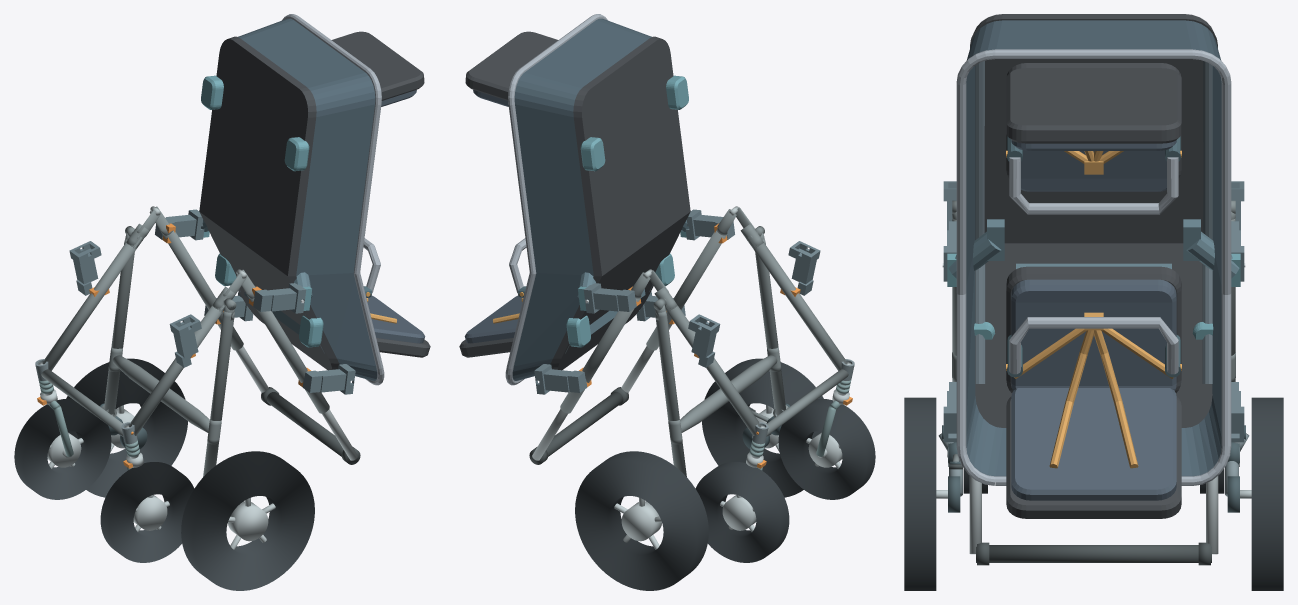
Rendered from S11_w550_state3_wheel_L.glb.
3 renders of one model, left to right at view 1: azimuth 30°, elevation 25°; view 2: azimuth 150°, elevation 25°; view 3: azimuth 270°, elevation 25°, orthographic. The views are drawn at different scales.
Visible parts, largest first — view 1: S11_Cabin, RL_tire.002, FR_tire.002, FL_tire.002, RR_tire.002, main_lower_1.003, V46_rear_leg_-1.003, V46_rear_leg_1.003, V46_rearbar.003, main_lower_-1.003, main_upper_-1.003, main_upper_1.003 (+10 smaller); view 2: S11_Cabin, RR_tire.002, FL_tire.002, FR_tire.002, RL_tire.002, main_lower_-1.003, V46_rear_leg_1.003, V46_rear_leg_-1.003, V46_rearbar.003, main_lower_1.003, main_upper_1.003, main_upper_-1.003 (+10 smaller); view 3: S11_Cabin, RL_tire.002, RR_tire.002, round_handle.002, S11_Cabin_Mount_M, handle_slider_1.002, handle_slider_-1.002, Universal_Cabin_Receiver_H_1, Universal_Cabin_Receiver_H_-1.
Part boxes in pixels (x1,y1,x2,y2): S11_Cabin: (199, 14, 430, 385); RL_tire.002: (181, 451, 314, 590); FR_tire.002: (14, 398, 111, 499); FL_tire.002: (100, 462, 194, 562); RR_tire.002: (66, 358, 187, 497); main_lower_1.003: (42, 237, 142, 370); V46_rear_leg_-1.003: (203, 311, 234, 476); V46_rear_leg_1.003: (104, 239, 134, 414); V46_rearbar.003: (112, 355, 209, 432); main_lower_-1.003: (128, 305, 224, 435); main_upper_-1.003: (249, 298, 329, 413); main_upper_1.003: (163, 231, 243, 350); S11_Cabin: (459, 14, 690, 385); RR_tire.002: (575, 451, 708, 590); FL_tire.002: (778, 398, 875, 499); FR_tire.002: (695, 462, 789, 562); RL_tire.002: (702, 358, 823, 497); main_lower_-1.003: (747, 237, 847, 370); V46_rear_leg_1.003: (655, 311, 686, 476); V46_rear_leg_-1.003: (755, 239, 785, 414); V46_rearbar.003: (680, 355, 777, 432); main_lower_1.003: (665, 305, 761, 435); main_upper_1.003: (560, 295, 641, 413); main_upper_-1.003: (646, 231, 727, 350); S11_Cabin: (956, 14, 1231, 518); RL_tire.002: (904, 397, 936, 590); RR_tire.002: (1251, 397, 1283, 590); round_handle.002: (976, 545, 1211, 562); S11_Cabin_Mount_M: (942, 219, 1245, 286); handle_slider_1.002: (1206, 476, 1218, 554); handle_slider_-1.002: (969, 476, 981, 554); Universal_Cabin_Receiver_H_1: (1231, 382, 1244, 442); Universal_Cabin_Receiver_H_-1: (943, 382, 956, 442).
Bounding box in the file's own units: 1.01 × 1.3 × 0.7071.
